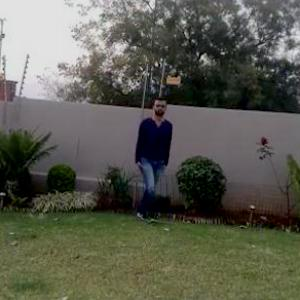follow: (130, 97, 172, 227)
